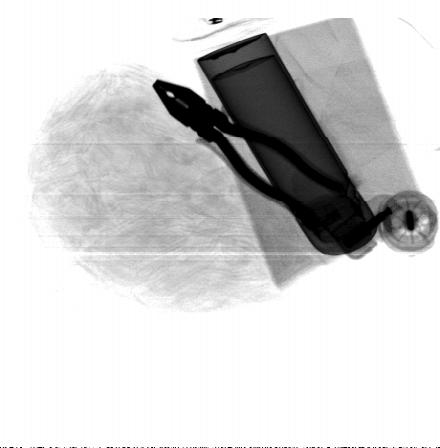Pliers: (150, 78, 347, 232)
